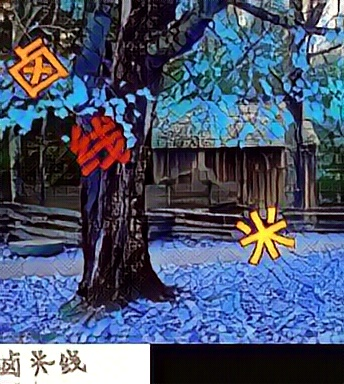C2B1: (5, 39, 69, 105)
C3D7: (234, 200, 298, 266)
CFDF: (69, 111, 133, 177)
